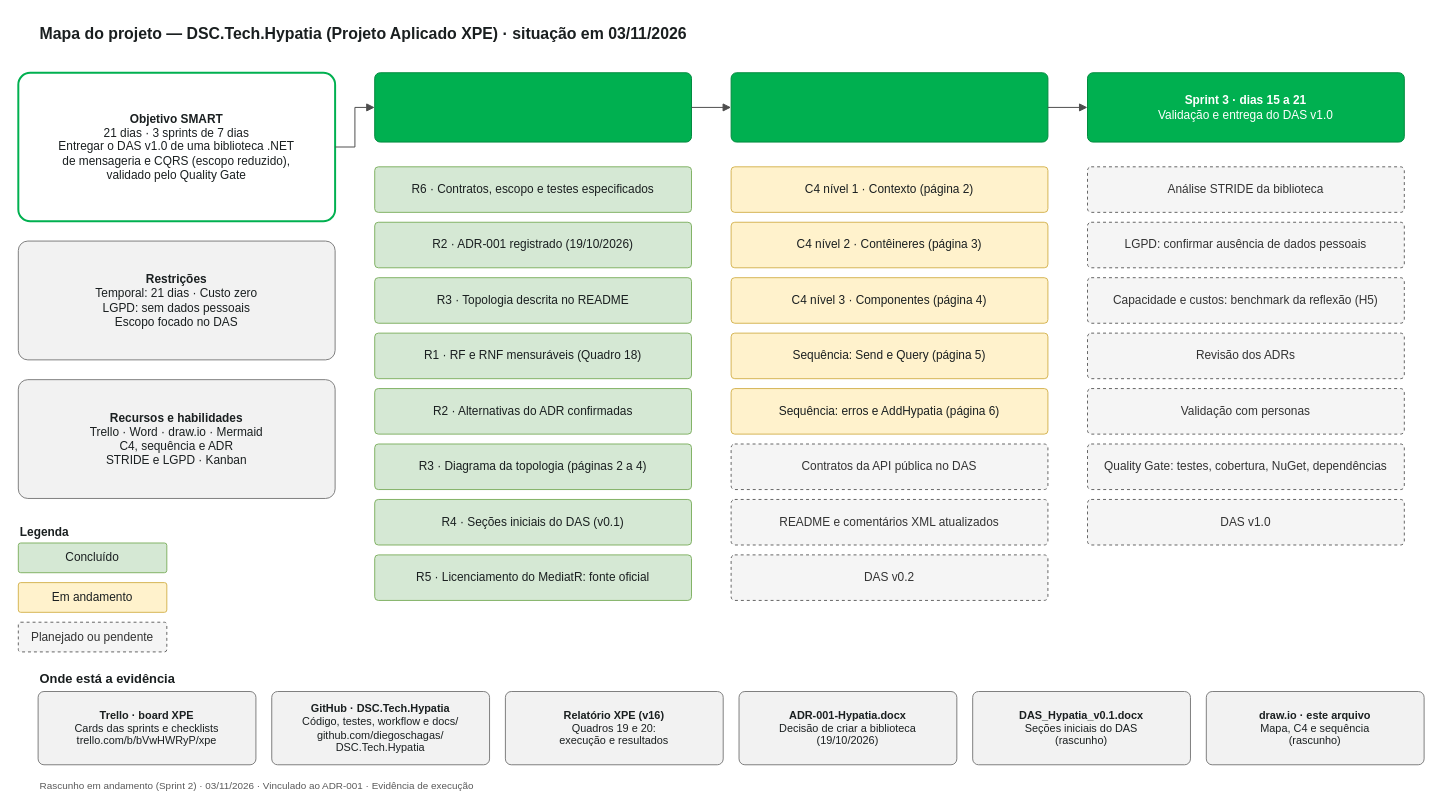
The diagram is 1441 pixels wide and 809 high, and some of its shapes have lost their labels. Here are the shapes that lost their labels. From the top down, the centre of each, then its label:
the point at 533,107: Sprint 1 · dias 1 a 7 Levantamento e estrutura inicial
the point at 889,107: Sprint 2 · dias 8 a 14 Modelagem arquitetural no DAS
